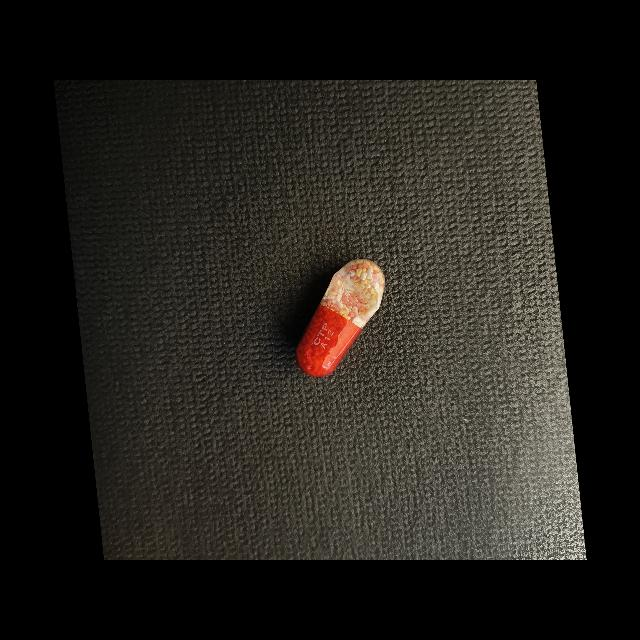Defective Capsule: (297, 259, 385, 377)
